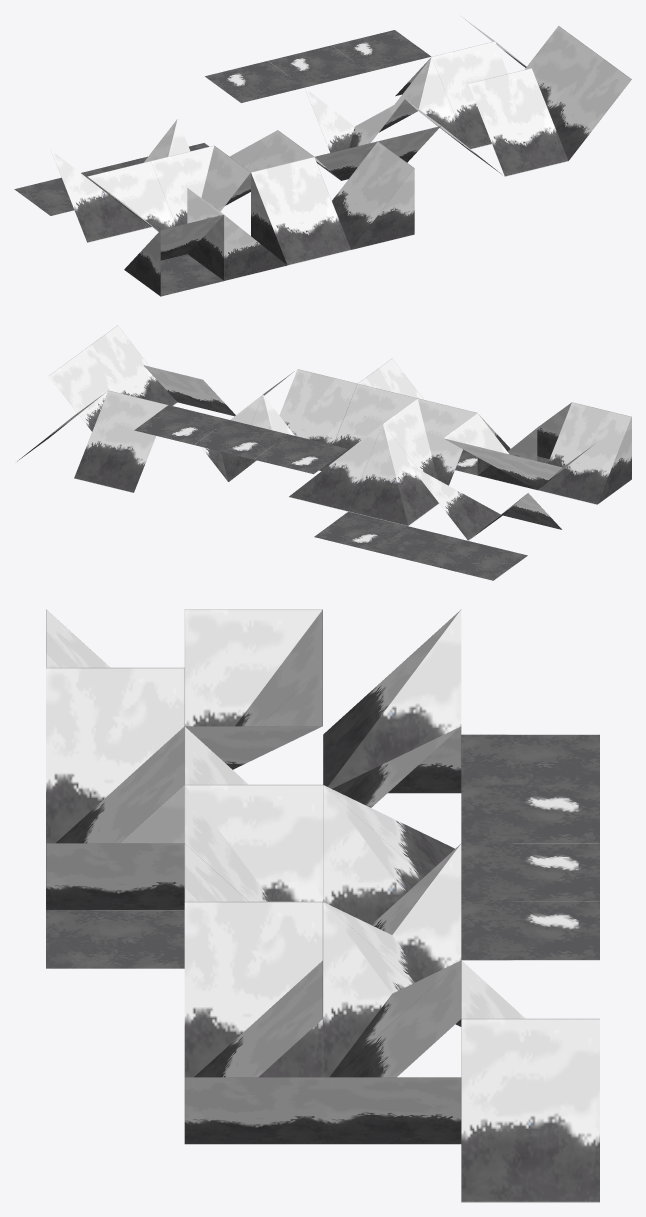
The model's file is all_tiles3.gltf.
The picture shows the model from 3 angles, top to bottom: view 1: azimuth 30°, elevation 25°; view 2: azimuth 150°, elevation 25°; view 3: azimuth 270°, elevation 25°; orthographic projection. The views are drawn at different scales.
Parts seen in each view (by area): view 1: 26, 22, 27, 24, 17, 23, 14, 8, 16, 15, 25, 13 (+11 smaller); view 2: 24, 6, 10, 18, 20, 23, 11, 19, 15, 9, 3, 1 (+13 smaller); view 3: 7, 21, 27, 25, 16, 19, 8, 13, 15, 23, 3, 5 (+14 smaller).
Part boxes in pixels (left/top/right/bottom): 26: left=251, top=157, right=350, bottom=265; 22: left=468, top=68, right=568, bottom=176; 27: left=332, top=141, right=414, bottom=249; 24: left=124, top=215, right=223, bottom=296; 17: left=151, top=145, right=250, bottom=226; 23: left=549, top=52, right=631, bottom=160; 14: left=432, top=41, right=507, bottom=149; 8: left=51, top=150, right=150, bottom=242; 16: left=87, top=161, right=176, bottom=231; 15: left=525, top=26, right=594, bottom=111; 25: left=187, top=188, right=286, bottom=280; 13: left=379, top=57, right=466, bottom=145; 24: left=538, top=402, right=631, bottom=504; 6: left=74, top=390, right=167, bottom=492; 10: left=348, top=424, right=438, bottom=525; 18: left=383, top=398, right=476, bottom=485; 20: left=279, top=369, right=357, bottom=471; 23: left=83, top=325, right=177, bottom=405; 11: left=289, top=424, right=382, bottom=511; 19: left=324, top=384, right=417, bottom=468; 15: left=49, top=350, right=114, bottom=431; 9: left=409, top=464, right=500, bottom=540; 3: left=254, top=434, right=347, bottom=474; 1: left=374, top=526, right=467, bottom=565; 7: left=461, top=1018, right=599, bottom=1202; 21: left=184, top=901, right=322, bottom=1077; 27: left=46, top=843, right=184, bottom=968; 25: left=46, top=667, right=184, bottom=843; 16: left=184, top=609, right=322, bottom=726; 19: left=184, top=784, right=322, bottom=901; 8: left=323, top=609, right=461, bottom=788; 13: left=323, top=902, right=461, bottom=1077; 15: left=323, top=1077, right=461, bottom=1144; 23: left=184, top=1077, right=322, bottom=1144; 3: left=461, top=784, right=599, bottom=843; 5: left=461, top=901, right=599, bottom=960.
Size of the model in its own units: 512 by 64 by 256.
Materials: 1 (1 with a texture image).
